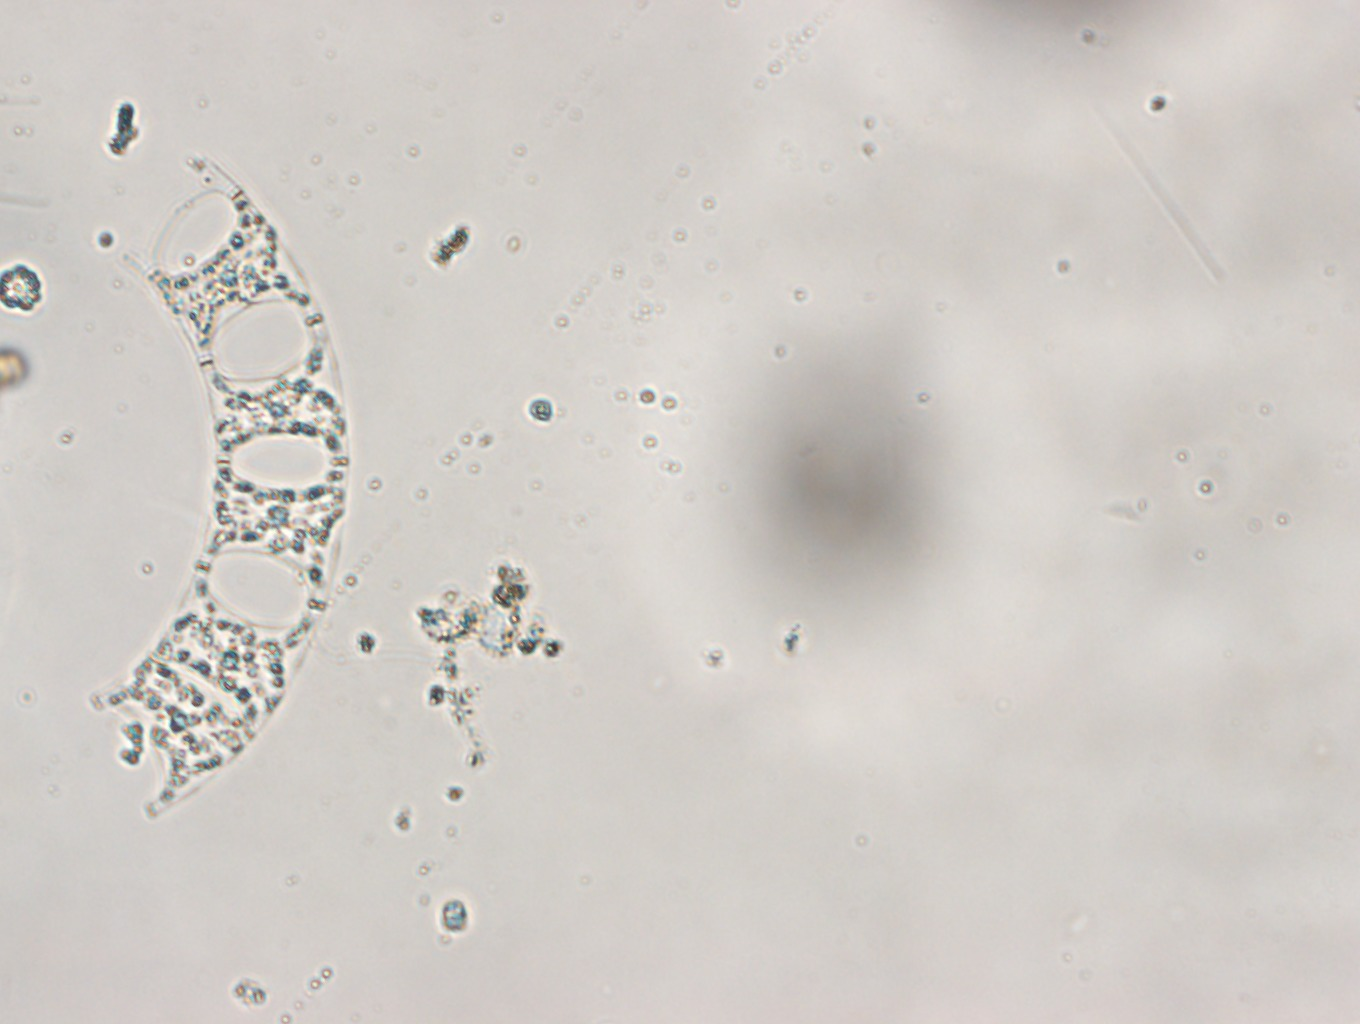eucampia: (86, 156, 357, 817)
